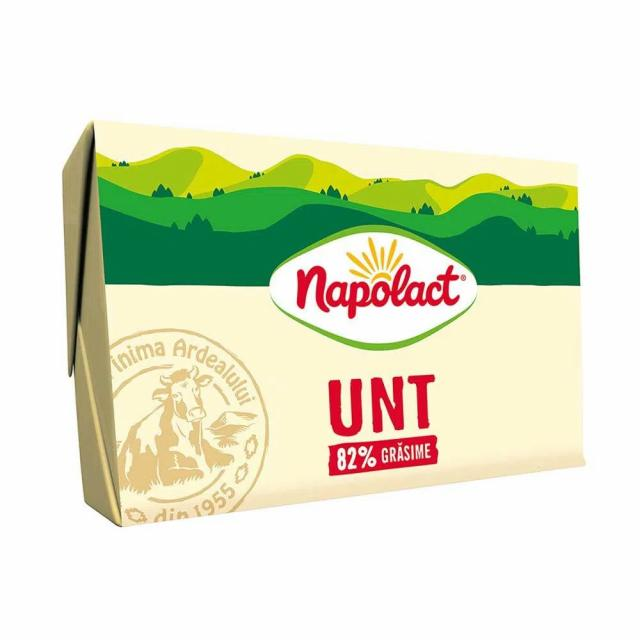butter: (58, 116, 591, 530)
